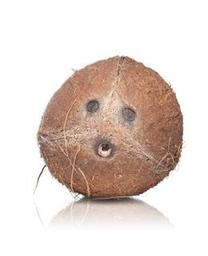coconut: (34, 55, 186, 202)
